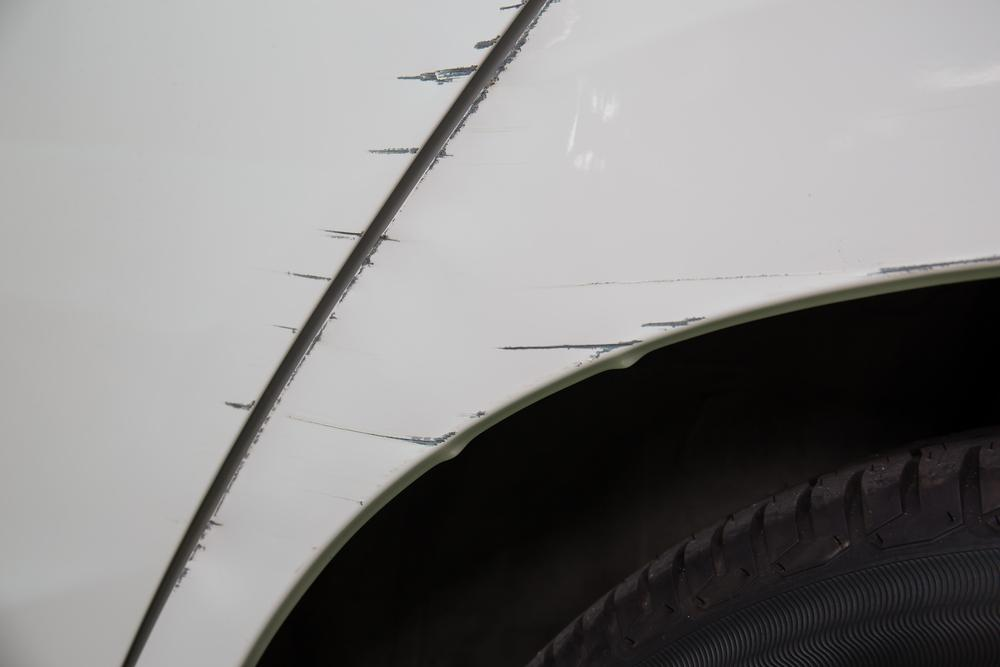scratch: (171, 0, 568, 594), (295, 245, 1000, 452), (203, 0, 532, 434)
